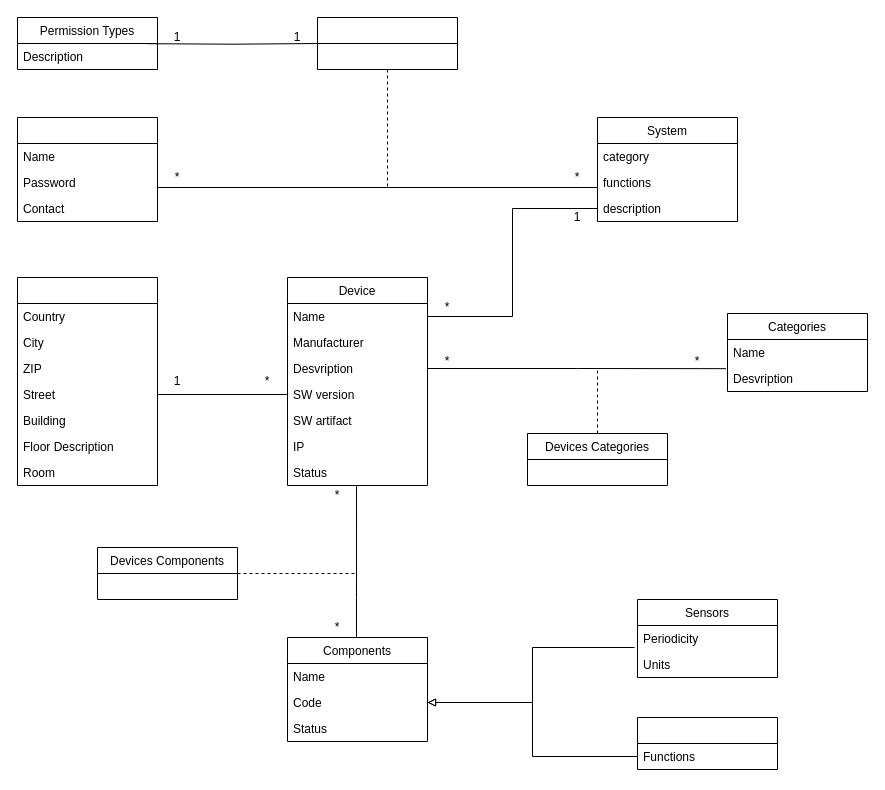
The diagram is 885 pixels wide and 790 high, and some of its shapes have lost their labels. The box of each missing label's shape, as (x1, y1, x2, y2) in pixels:
Actuators: (636, 716, 778, 770)
Locals: (16, 276, 158, 486)
User: (16, 116, 158, 222)
User Permissions: (316, 16, 458, 70)
